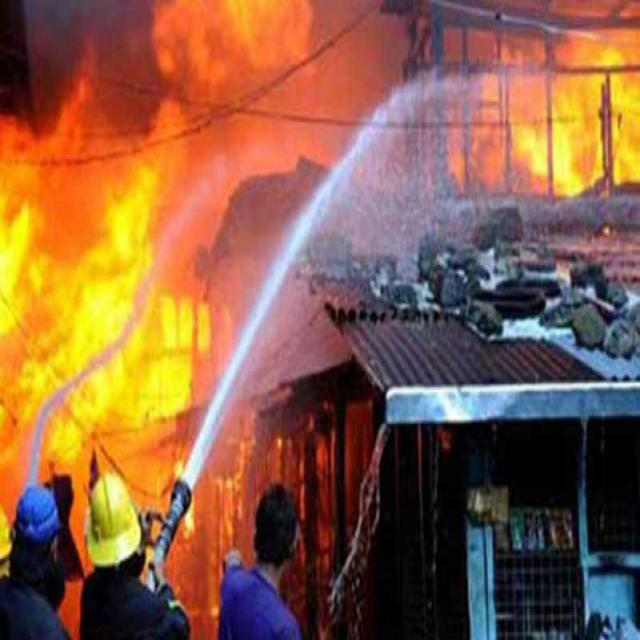fire: (0, 0, 317, 458), (452, 0, 639, 197)
